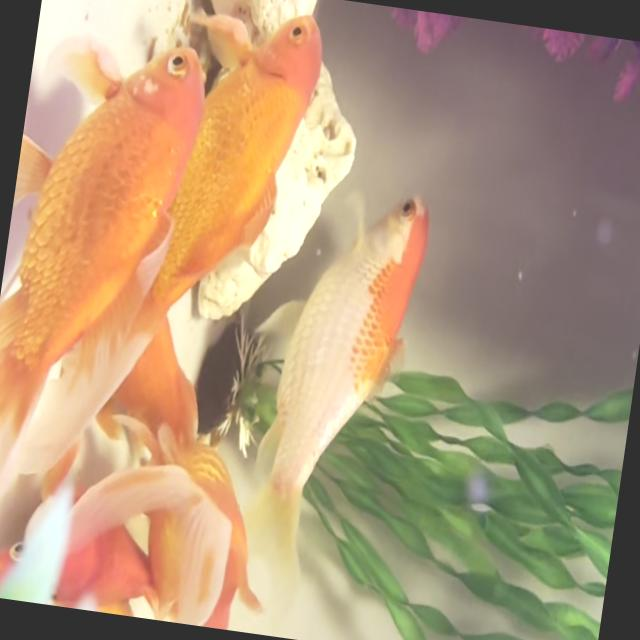fish: (0, 19, 221, 618), (230, 177, 433, 622), (130, 0, 327, 345), (113, 414, 284, 634)
